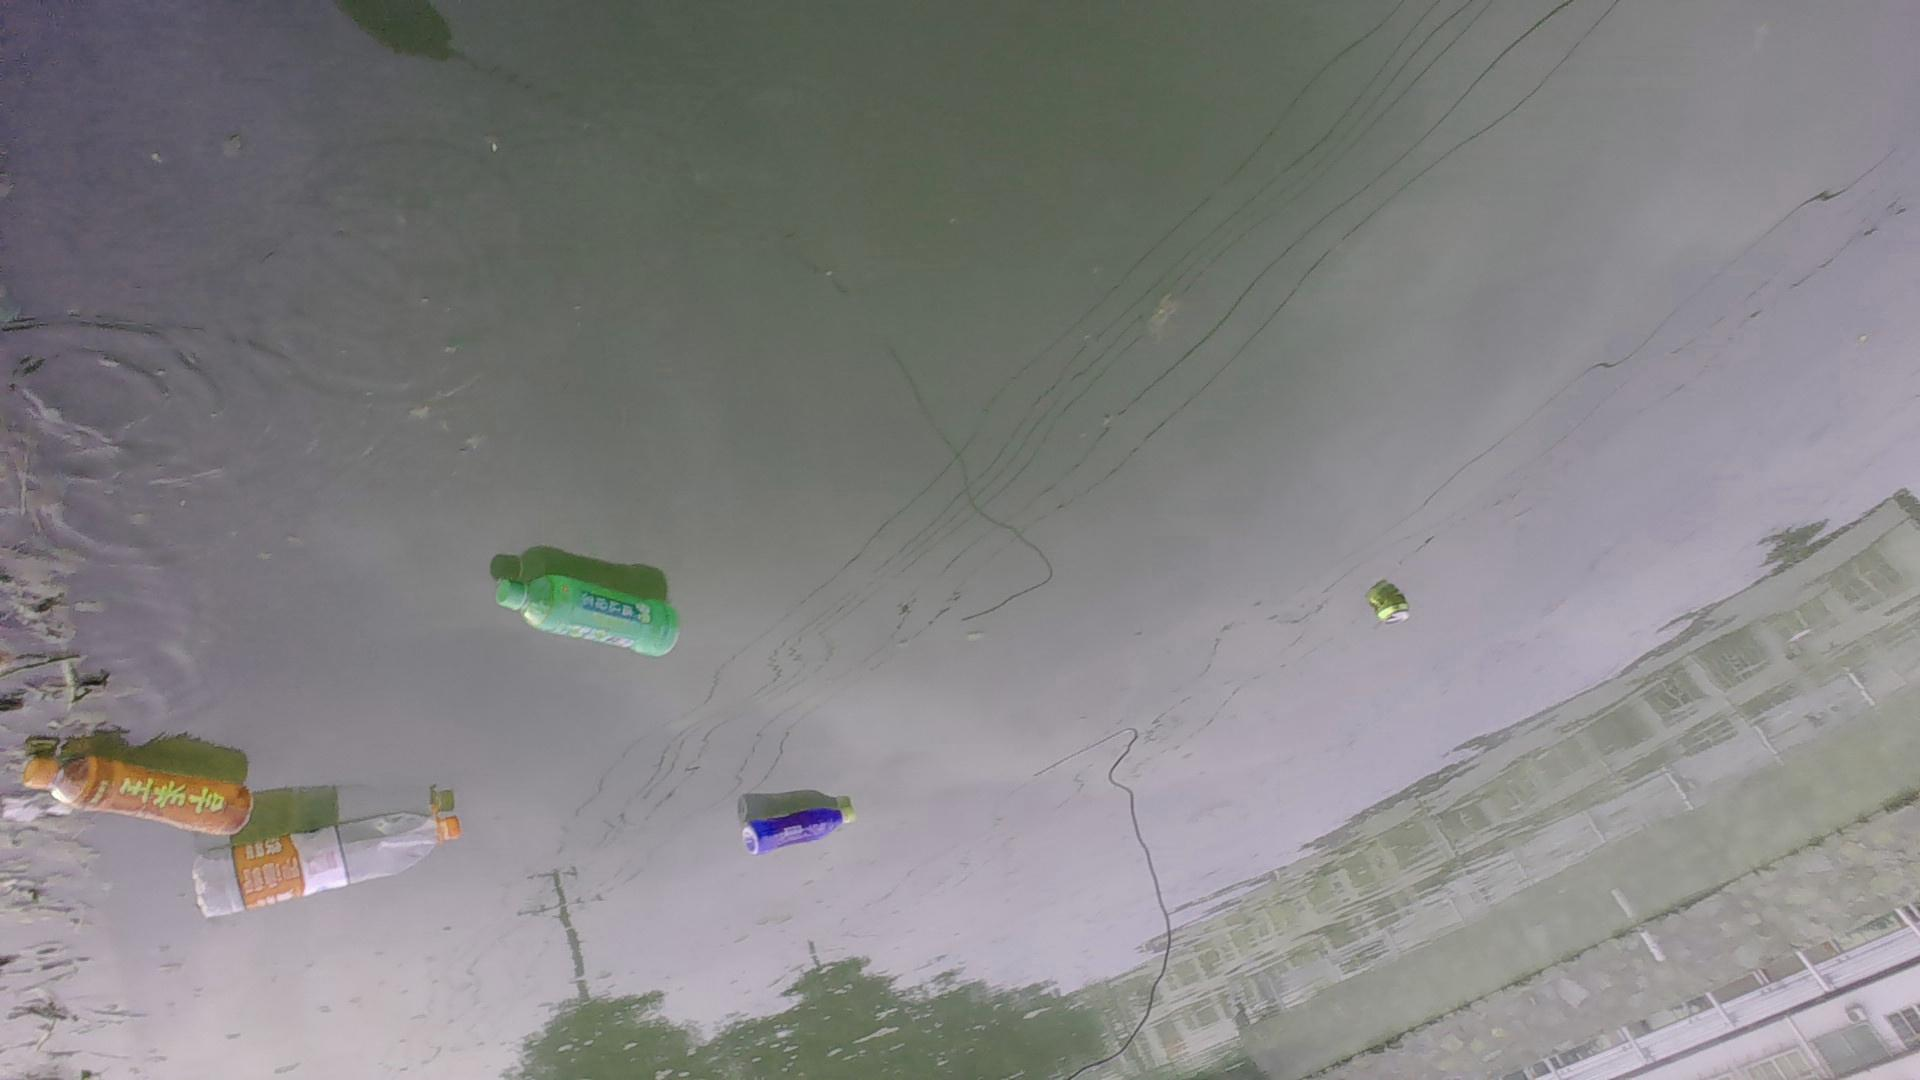Metal: (1366, 576, 1412, 634)
Plastic: (187, 808, 464, 924), (16, 750, 262, 840), (492, 560, 691, 659), (738, 794, 862, 862)
